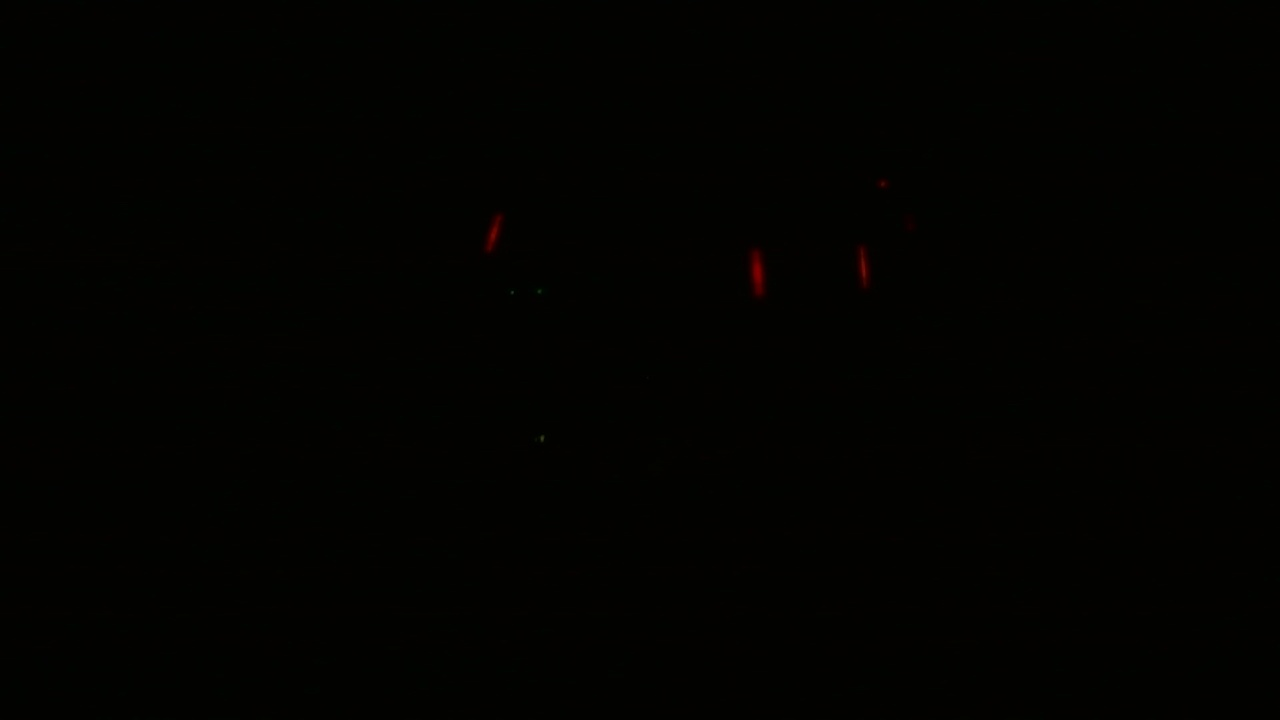pair1: (746, 241, 874, 297)
